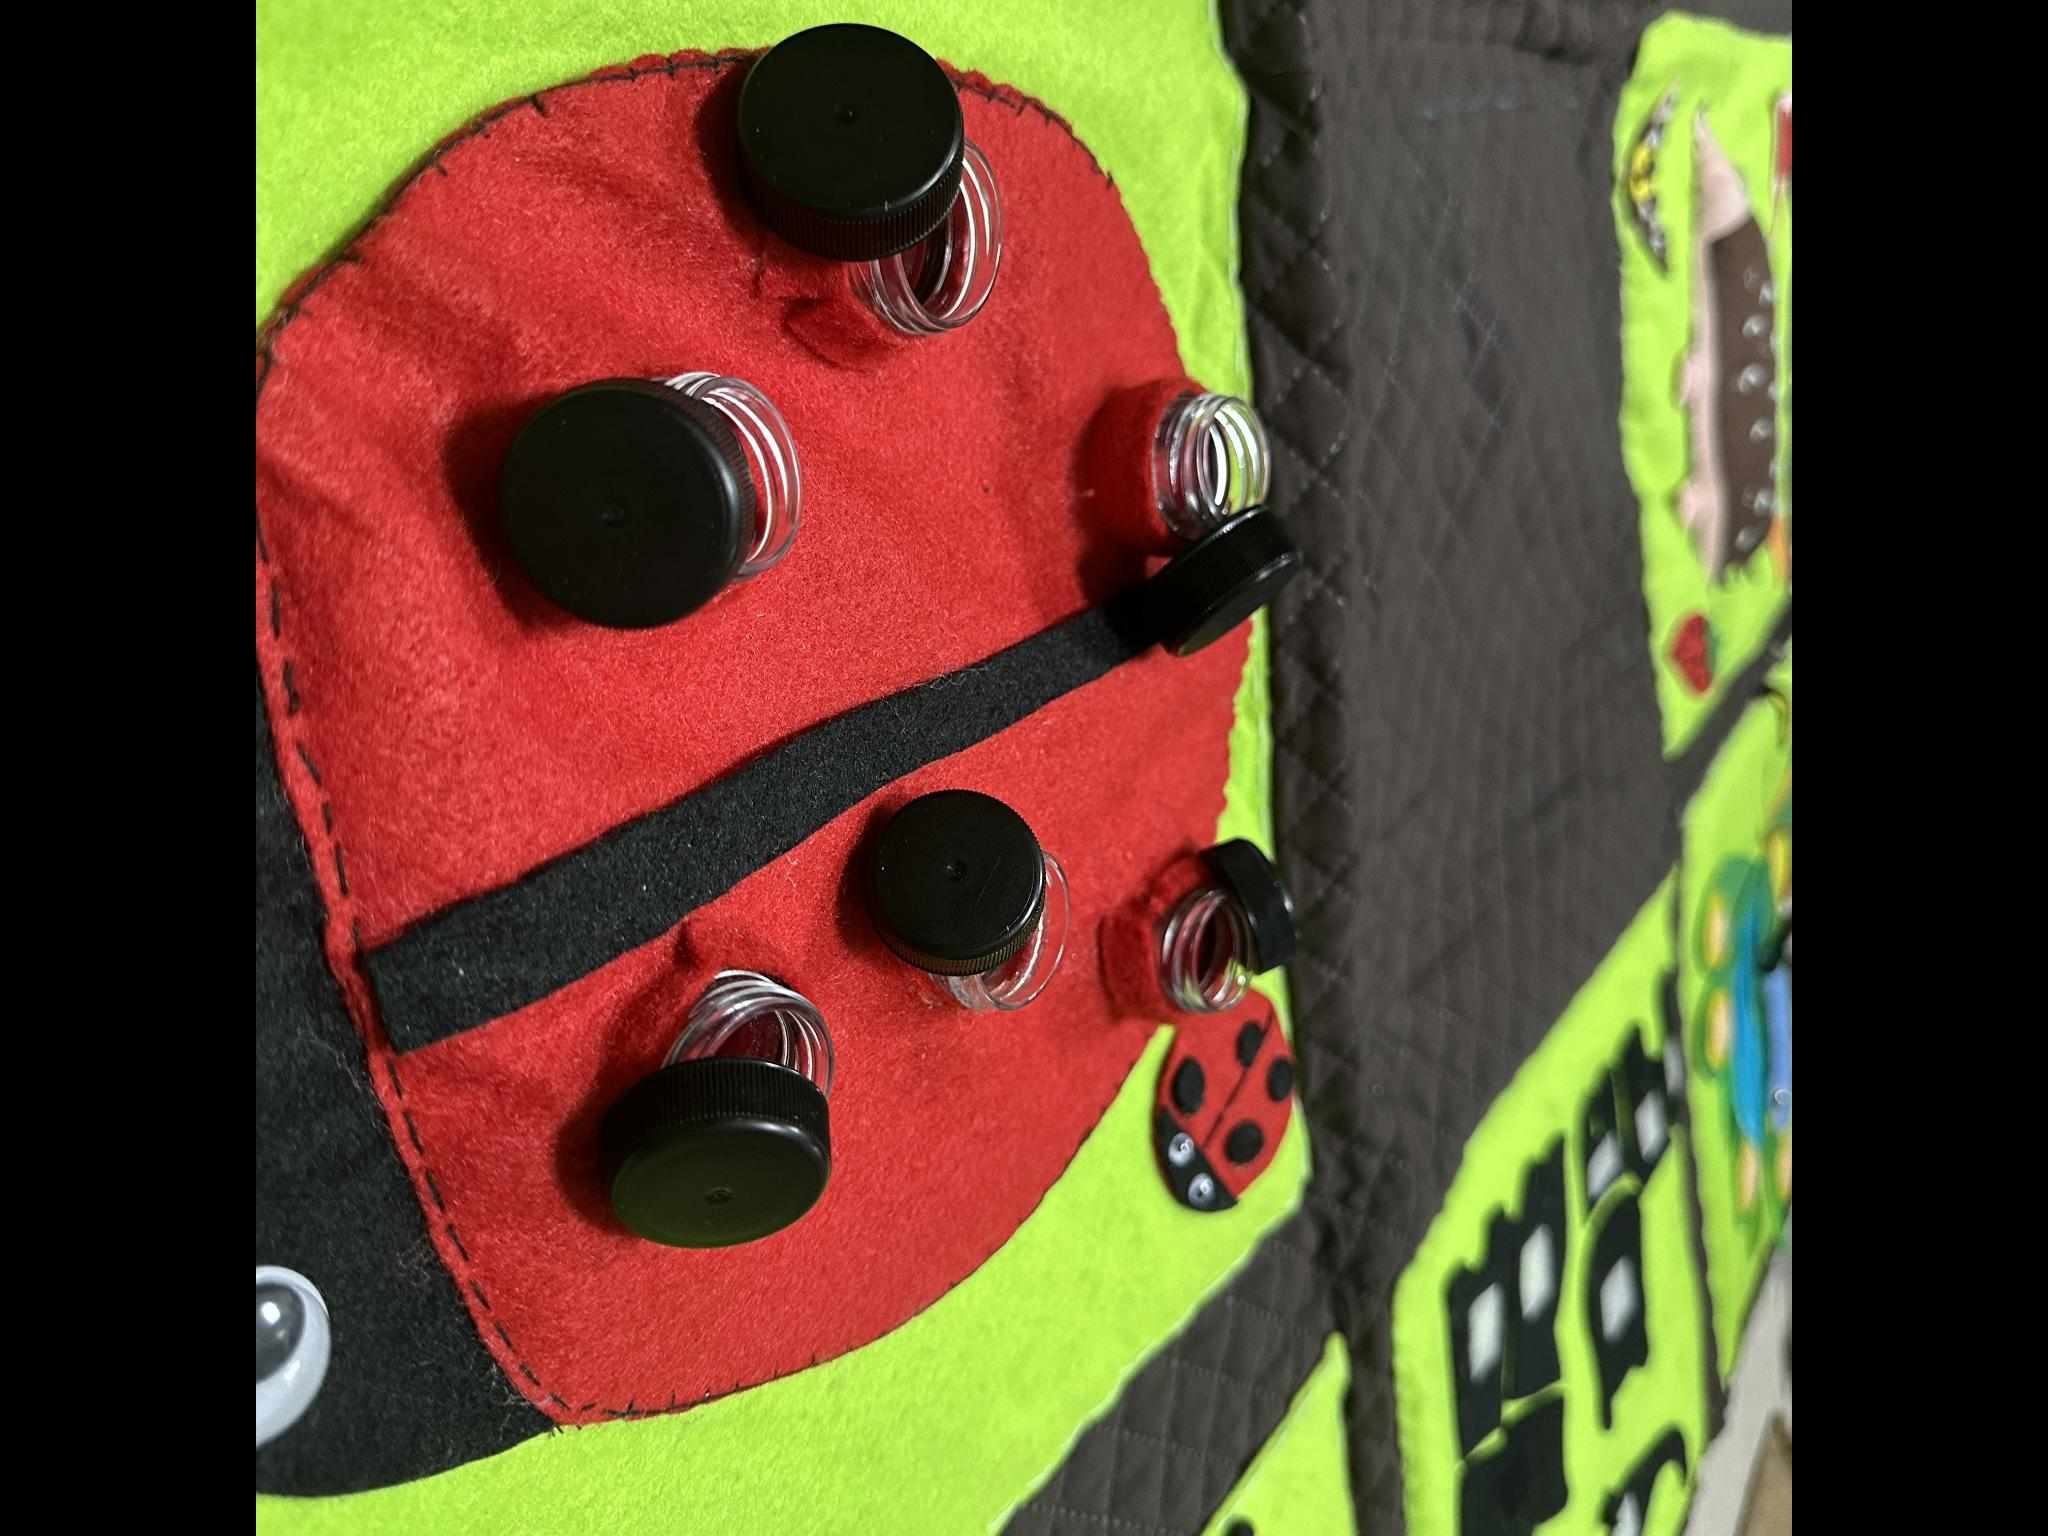cap_ng: (474, 337, 827, 666), (719, 8, 1024, 382), (579, 929, 864, 1267), (1061, 352, 1314, 670), (842, 742, 1077, 1036), (1105, 813, 1311, 1033)
